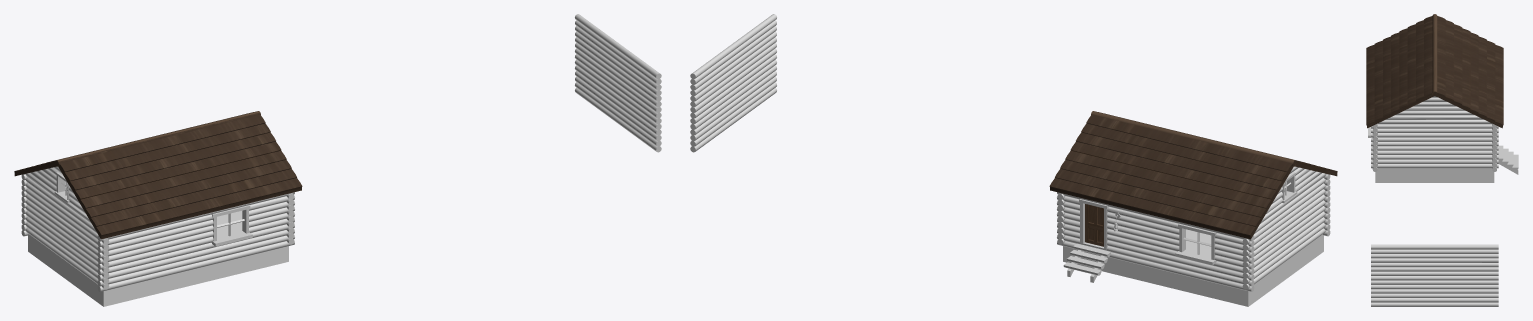
Rendered from Cabin.fbx.
3 renders of one model, left to right at view 1: azimuth 30°, elevation 25°; view 2: azimuth 150°, elevation 25°; view 3: azimuth 270°, elevation 25°, orthographic. The views are drawn at different scales.
Visible parts, largest first — view 1: Cylinder.005, Cylinder.014, Cylinder.003, Cube, Cylinder.002, Cube.007, Cylinder.027, Cylinder.028, Cylinder.019, Cylinder.016, Cylinder.020, Cylinder.030 (+9 smaller); view 2: Cylinder.004, Cylinder.024, Cylinder.003, Cube, Stairs, Cylinder.010, Cylinder.002, Cube.006, Cube.003, Cylinder.027, Cylinder.028, Cylinder.019 (+13 smaller); view 3: Cylinder.026, Cylinder.004, Cylinder.005, Cube, Cylinder.027, Cylinder.011, Cylinder.013, Cylinder.016, Cylinder.017, Cylinder.018, Cylinder.019, Cylinder.020 (+11 smaller).
Part boxes in pixels (box(x1,y1,x2,y2)): Cylinder.005: box(58, 114, 302, 239); Cylinder.014: box(97, 192, 294, 291); Cylinder.003: box(25, 166, 109, 289); Cube: box(28, 234, 288, 306); Cylinder.002: box(55, 111, 260, 166); Cube.007: box(211, 205, 252, 246); Cylinder.027: box(575, 14, 661, 79); Cylinder.028: box(575, 20, 661, 84); Cylinder.019: box(575, 71, 661, 135); Cylinder.016: box(575, 54, 661, 118); Cylinder.020: box(575, 76, 661, 141); Cylinder.030: box(575, 31, 661, 96); Cylinder.004: box(1049, 114, 1293, 239); Cylinder.024: box(1057, 192, 1254, 286); Cylinder.003: box(1242, 166, 1326, 289); Cube: box(1063, 234, 1323, 306); Stairs: box(1063, 243, 1111, 282); Cylinder.010: box(1057, 239, 1254, 291); Cylinder.002: box(1091, 111, 1296, 166); Cube.006: box(1175, 223, 1216, 265); Cube.003: box(1085, 204, 1103, 246); Cylinder.027: box(690, 14, 776, 79); Cylinder.028: box(690, 20, 776, 84); Cylinder.019: box(690, 71, 776, 135); Cylinder.026: box(1371, 96, 1498, 163); Cylinder.004: box(1435, 16, 1503, 128); Cylinder.005: box(1366, 16, 1433, 128); Cube: box(1375, 168, 1494, 182); Cylinder.027: box(1371, 244, 1498, 249); Cylinder.011: box(1371, 267, 1498, 271); Cylinder.013: box(1371, 271, 1498, 275); Cylinder.016: box(1371, 276, 1498, 280); Cylinder.017: box(1371, 280, 1498, 284); Cylinder.018: box(1371, 285, 1498, 289); Cylinder.019: box(1371, 289, 1498, 293); Cylinder.020: box(1371, 293, 1498, 297).
Size of the model in its own units: 49.57 by 10.15 by 14.77.
3 materials, 2 textured.
